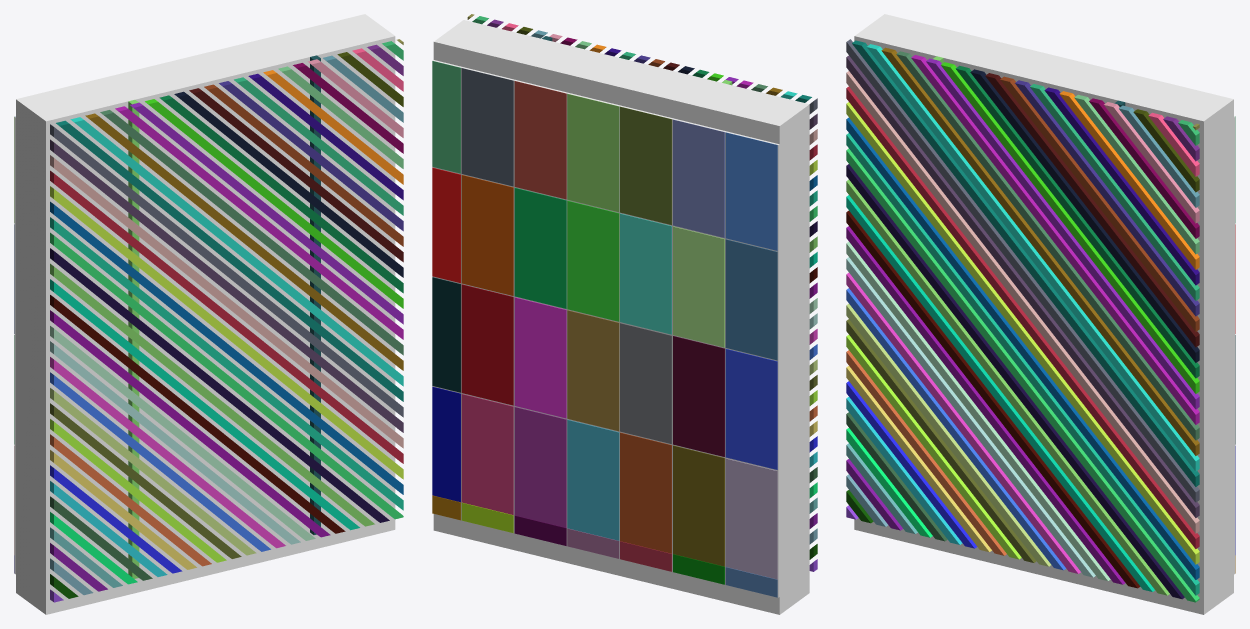
The model's file is generic_wall_woodsamples.fbx.
3 renders of one model, left to right at view 1: azimuth 30°, elevation 25°; view 2: azimuth 150°, elevation 25°; view 3: azimuth 330°, elevation 25°, orthographic.
Visible parts, largest first — view 1: Wall; view 2: Wall; view 3: Wall.
Boxes of the visible parts, bbox=[...] form: Wall: bbox=[14, 14, 403, 614]; Wall: bbox=[432, 14, 817, 614]; Wall: bbox=[846, 14, 1235, 614].
Bounding box in the file's own units: 200 × 39.46 × 270.
